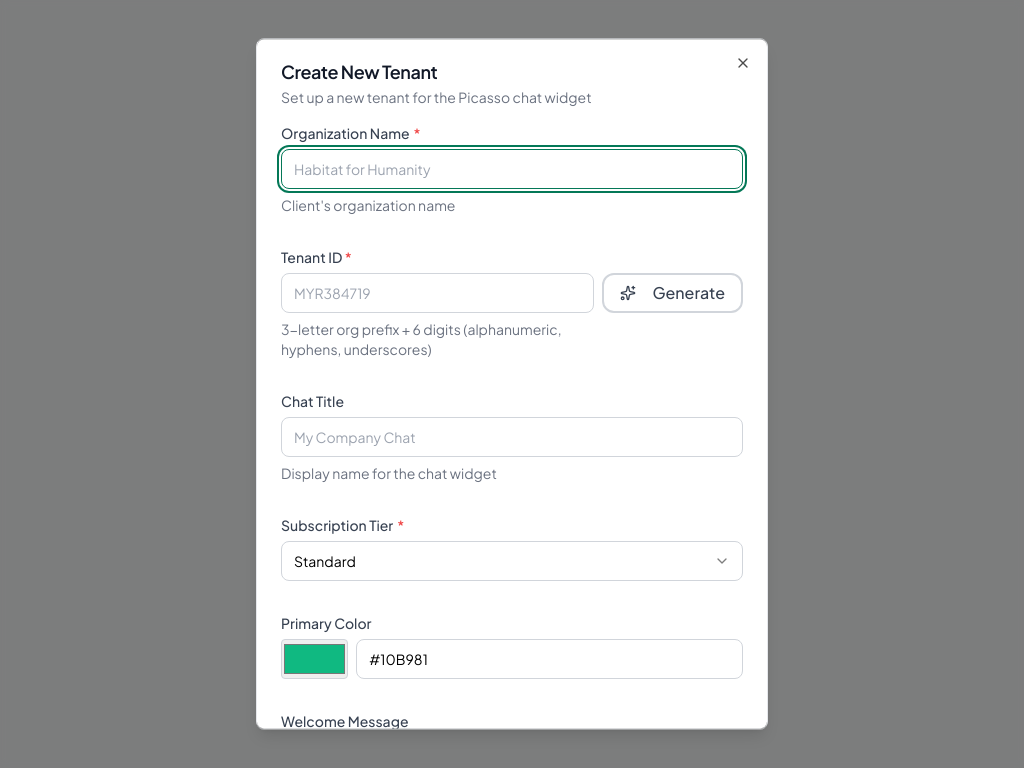
it: CreateTenantModal › validates tenant_id format
Type "Test Org" into the field labelled "Organization Name*" at {"x": 512, "y": 169}, box [281,149,743,189]
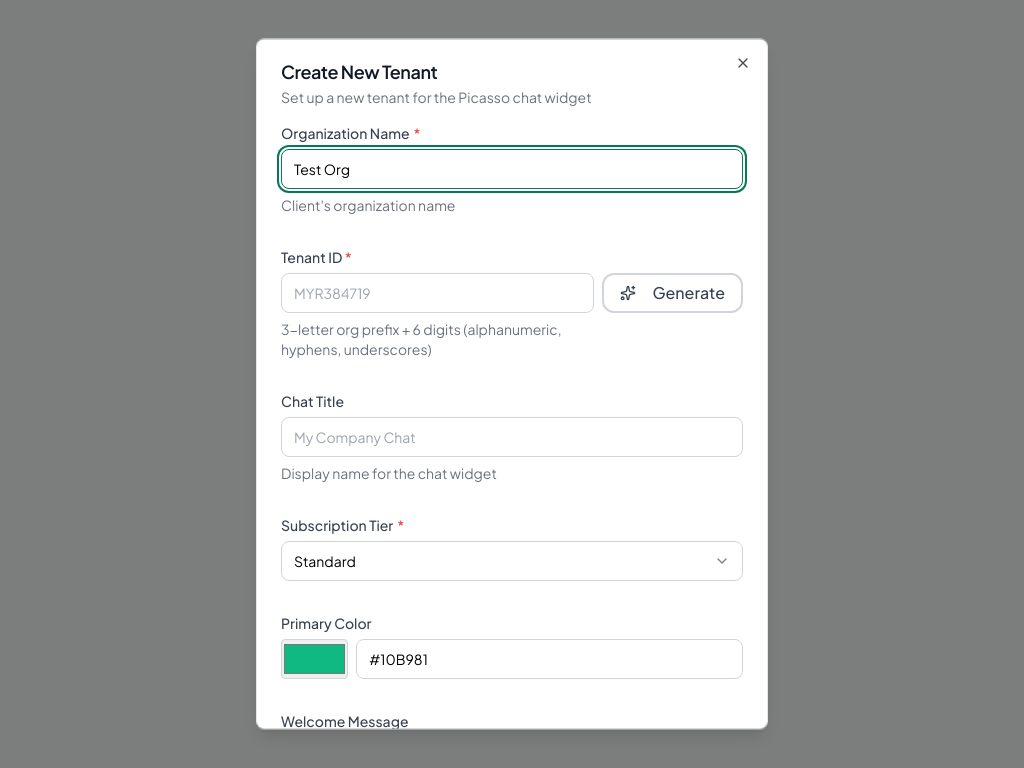
Type "invalid tenant!" into the field labelled "Tenant ID *" at {"x": 438, "y": 293}, box [281,273,594,313]
(page scrolled)
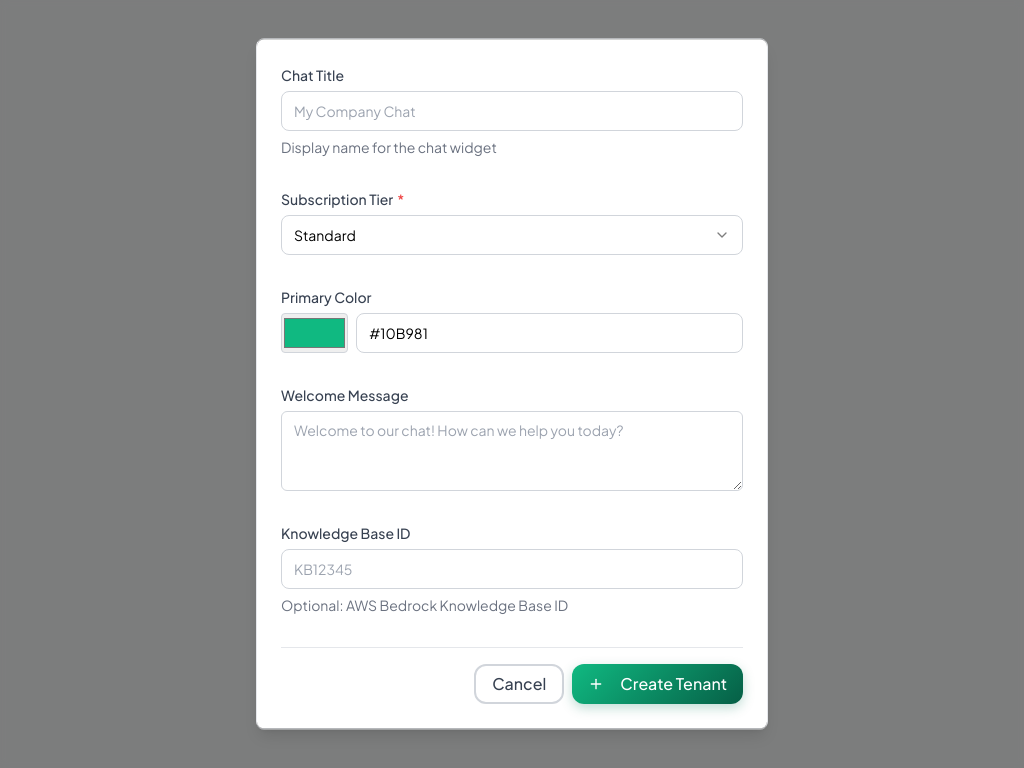
Click the button "Create Tenant" at {"x": 658, "y": 684}, box [572,664,743,704]
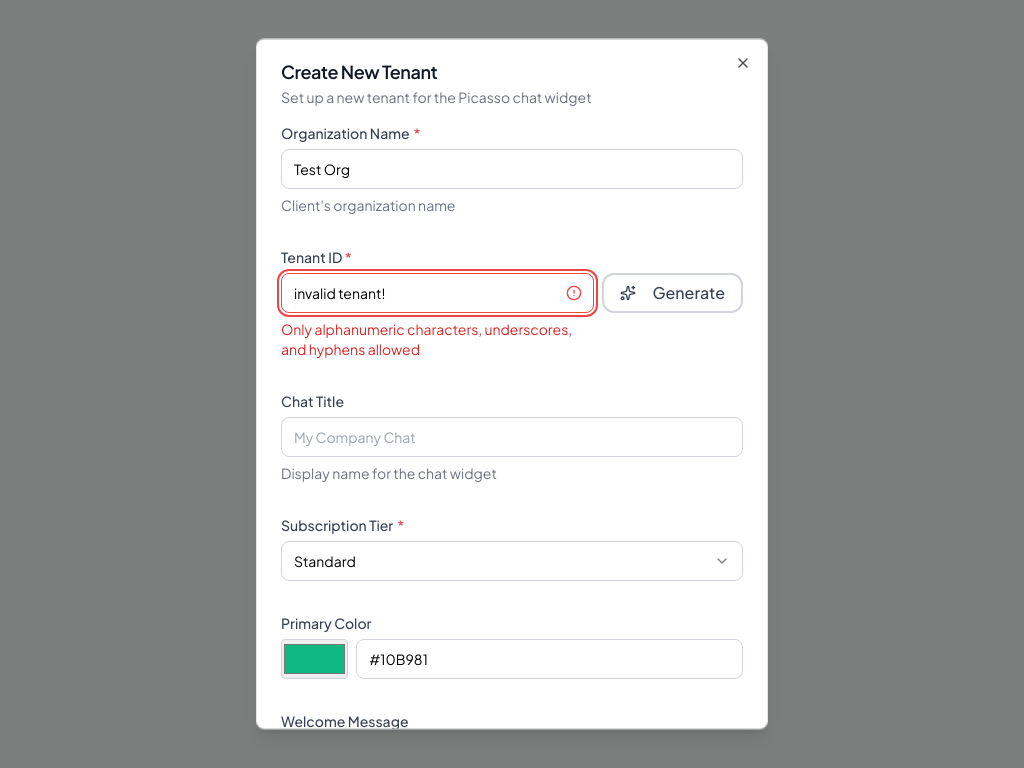
Now the text "Only alphanumeric characters, underscores, and hyphens allowed" is shown, box [281,319,594,359]
